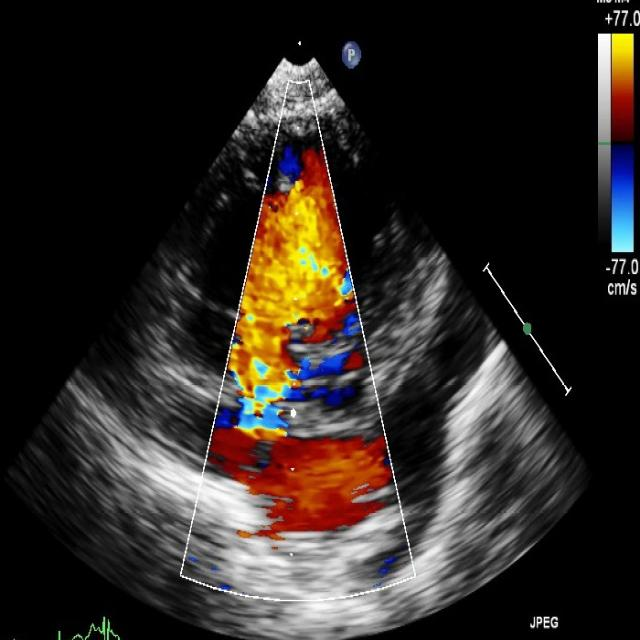ASDType2: (218, 435, 386, 515)
VSDType2: (235, 258, 364, 404)
